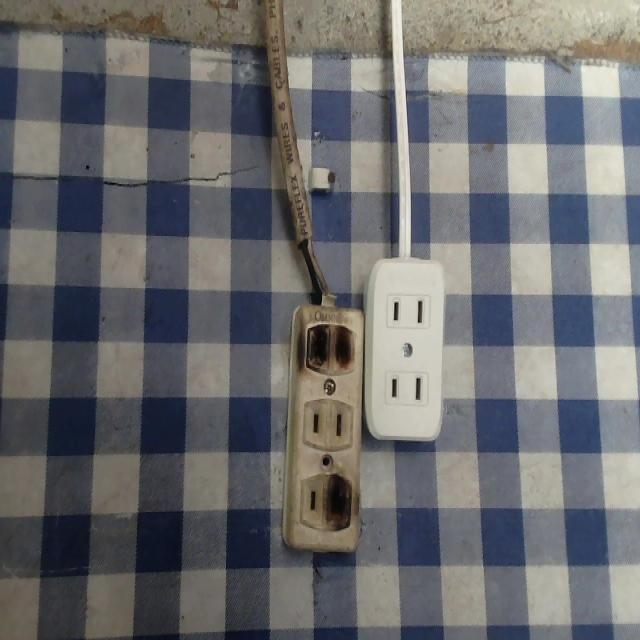-: (304, 318, 355, 374), (322, 469, 353, 531)
